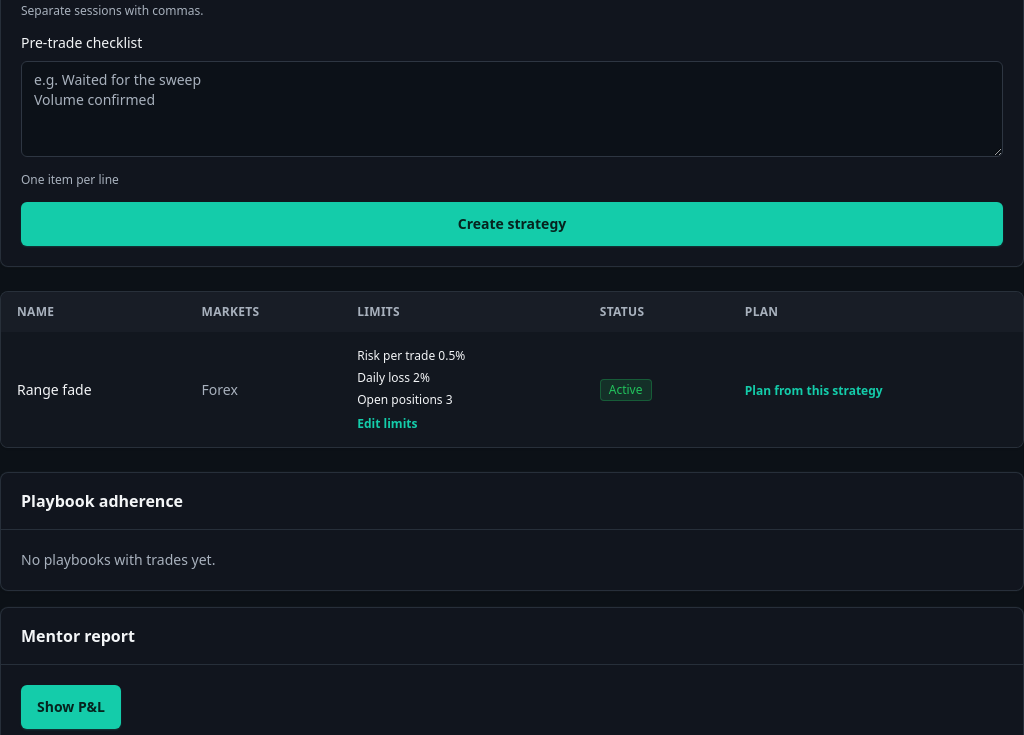
Test: editing a strategy's limits in place › reloads the list and closes the form once the change is saved
(page scrolled)
Expected: the table is shown, [1,292,1023,447]
Click the button "Edit limits" at (387,424), box [357,416,418,432]
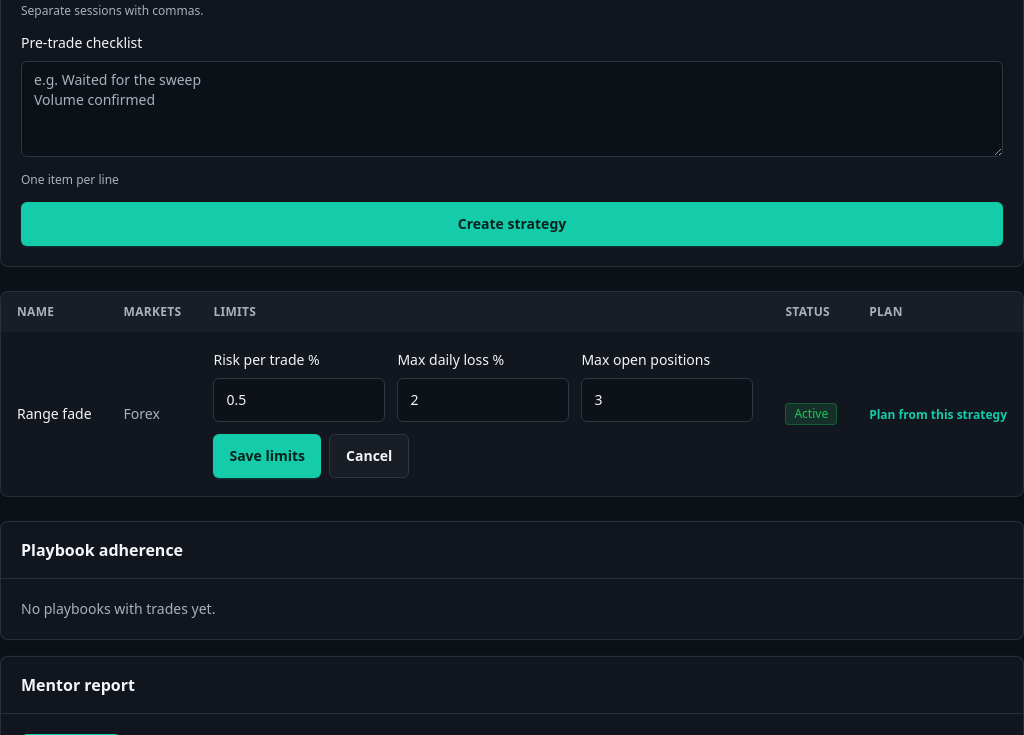
Replace the text in the field labelled "Risk per trade %" with "1" at (299,400), box [213,378,385,422]
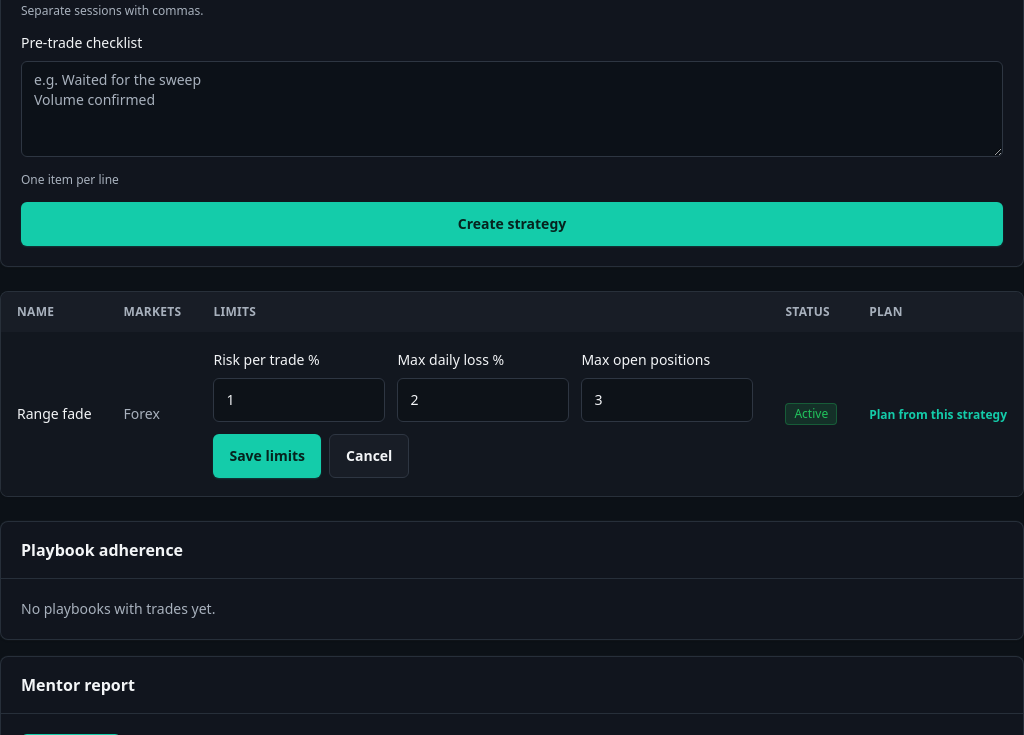
Click the button "Save limits" at (267,456), box [213,434,321,478]
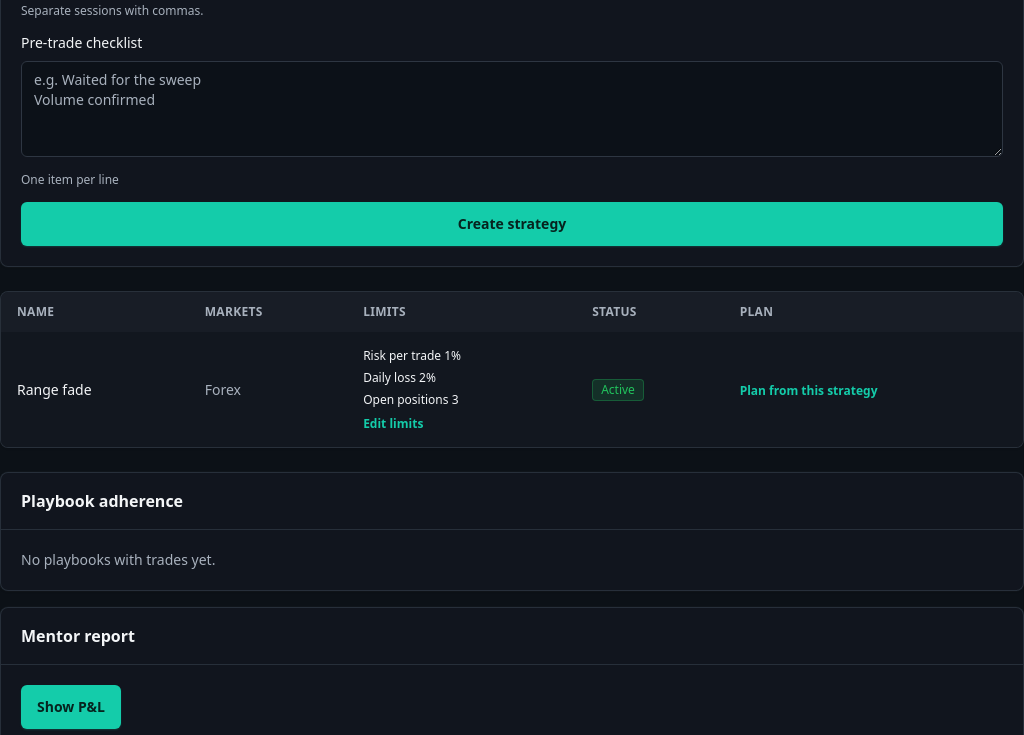
Now the list item "Risk per trade 1%" is shown, box [363,347,461,364]
